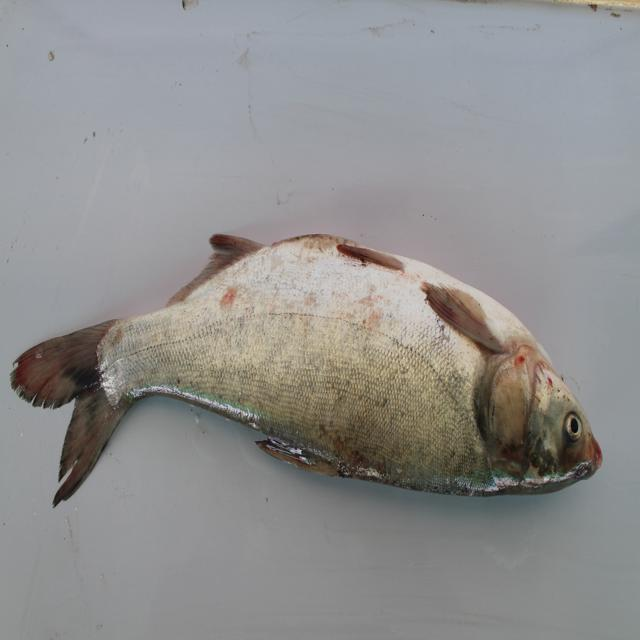SilverCarp: (24, 214, 606, 539)
